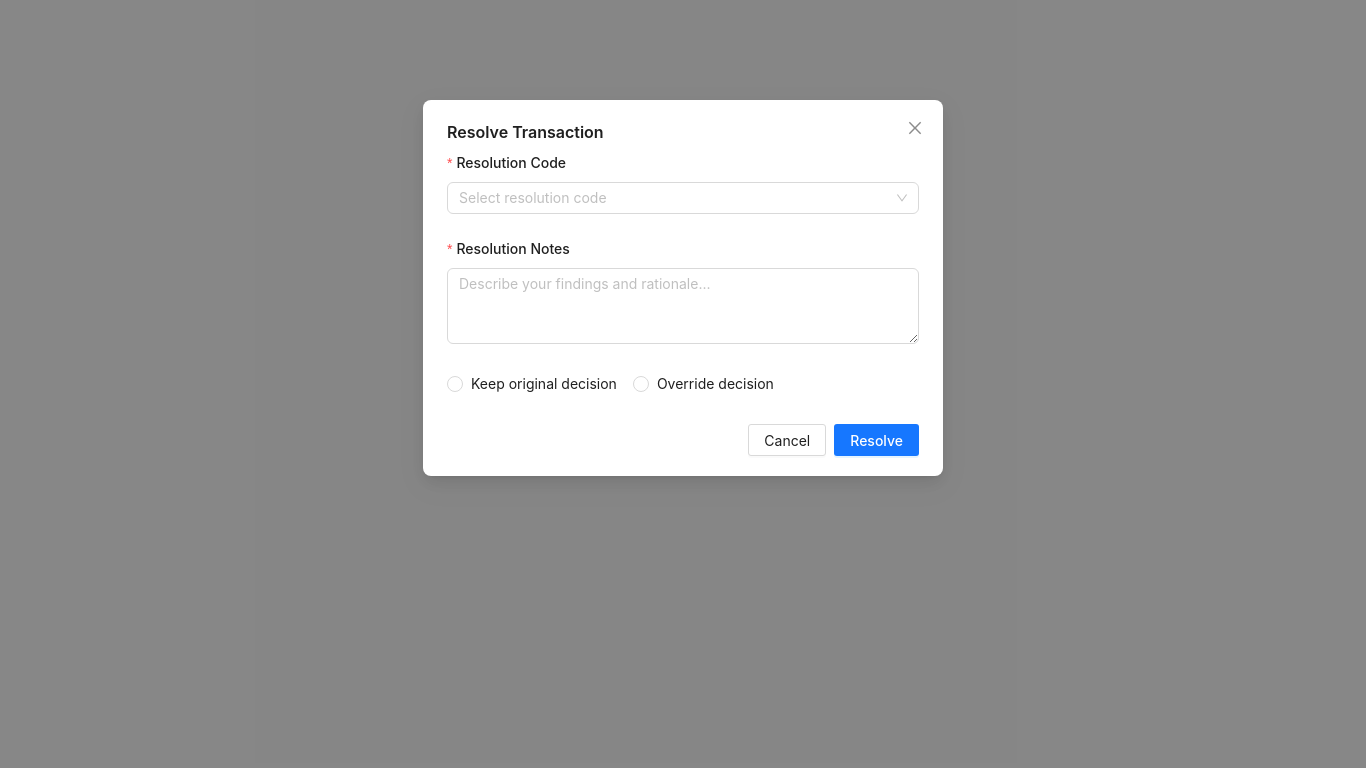
Test: ResolveModal › Rendering › renders resolution code dropdown with all options
This screenshot has width=1366, height=768.
# Open dropdown to see options
Press the mouse on the dropdown labelled "Resolution Code": (511, 162) [456,154,566,171]
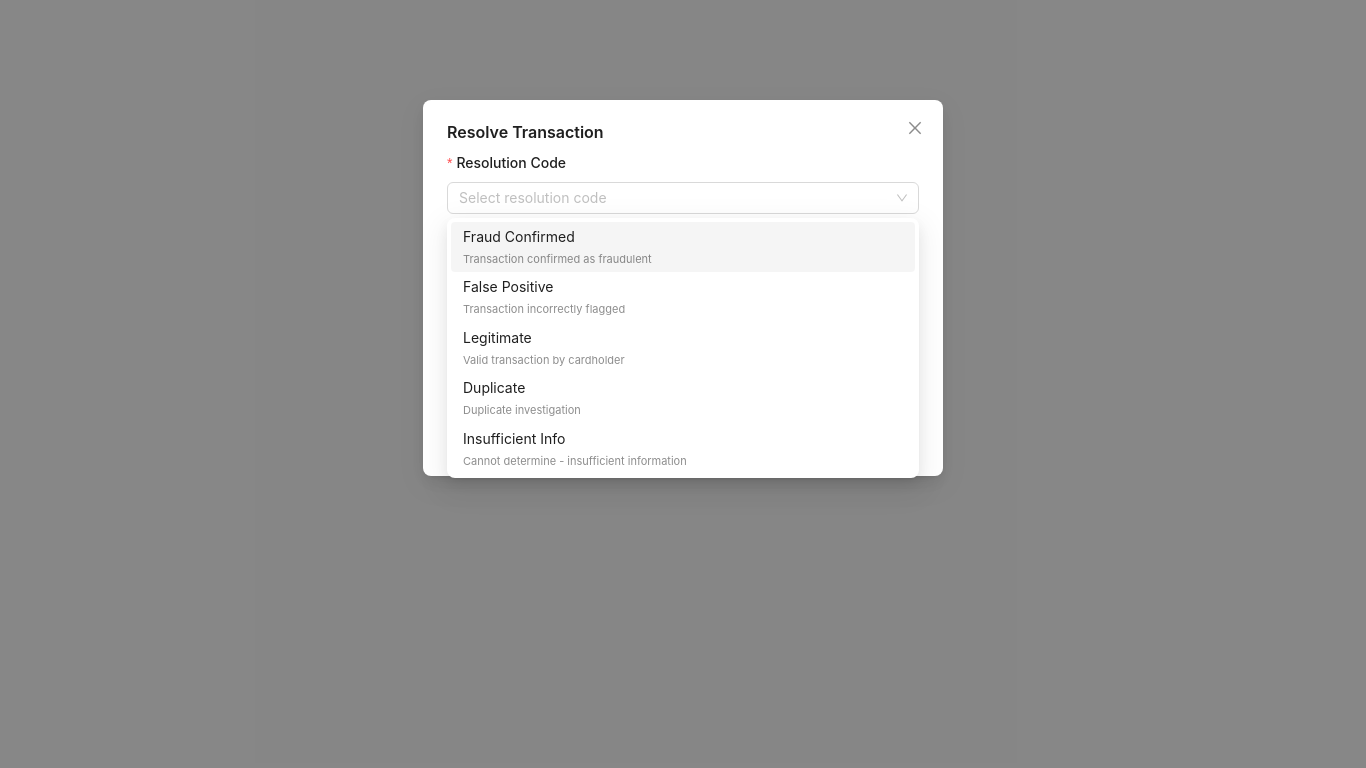
Now the text "Fraud Confirmed" is shown, box [463,228,575,245]
Now the text "False Positive" is shown, box [463,278,553,295]
Now the text "Legitimate" is shown, box [463,329,532,346]
